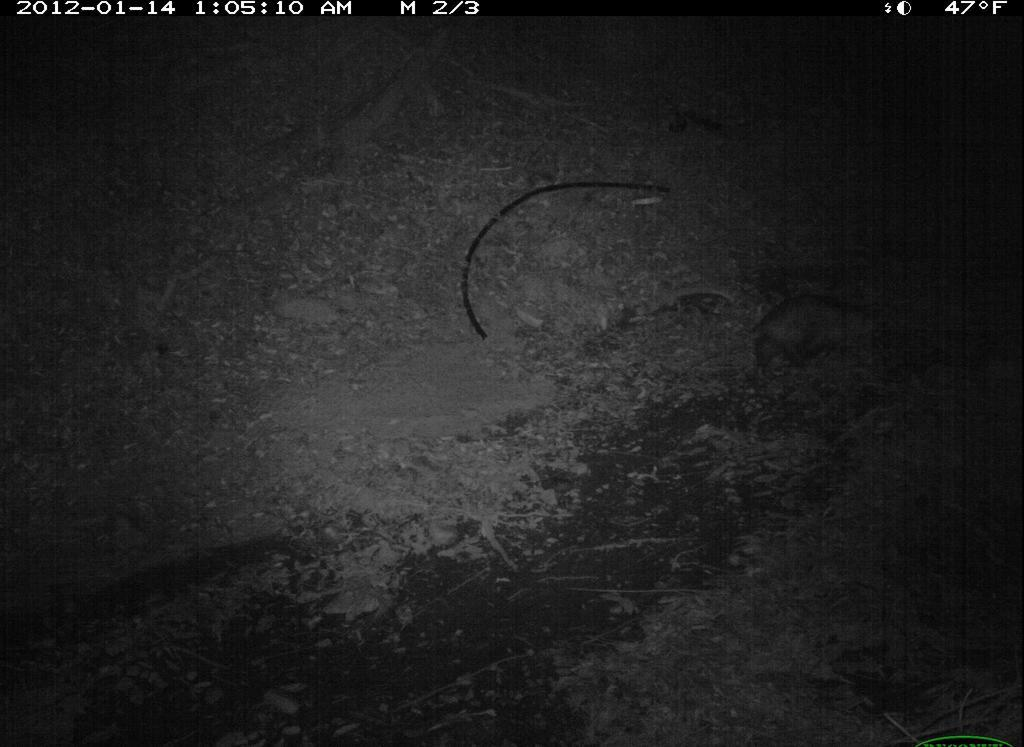opossum: (710, 278, 881, 383)
